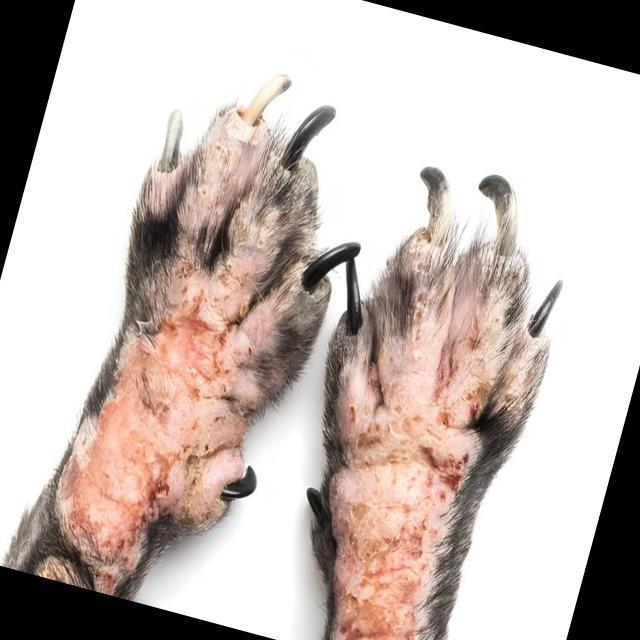allergic dermatitis: (339, 288, 503, 640), (118, 282, 234, 476), (54, 405, 156, 573)
